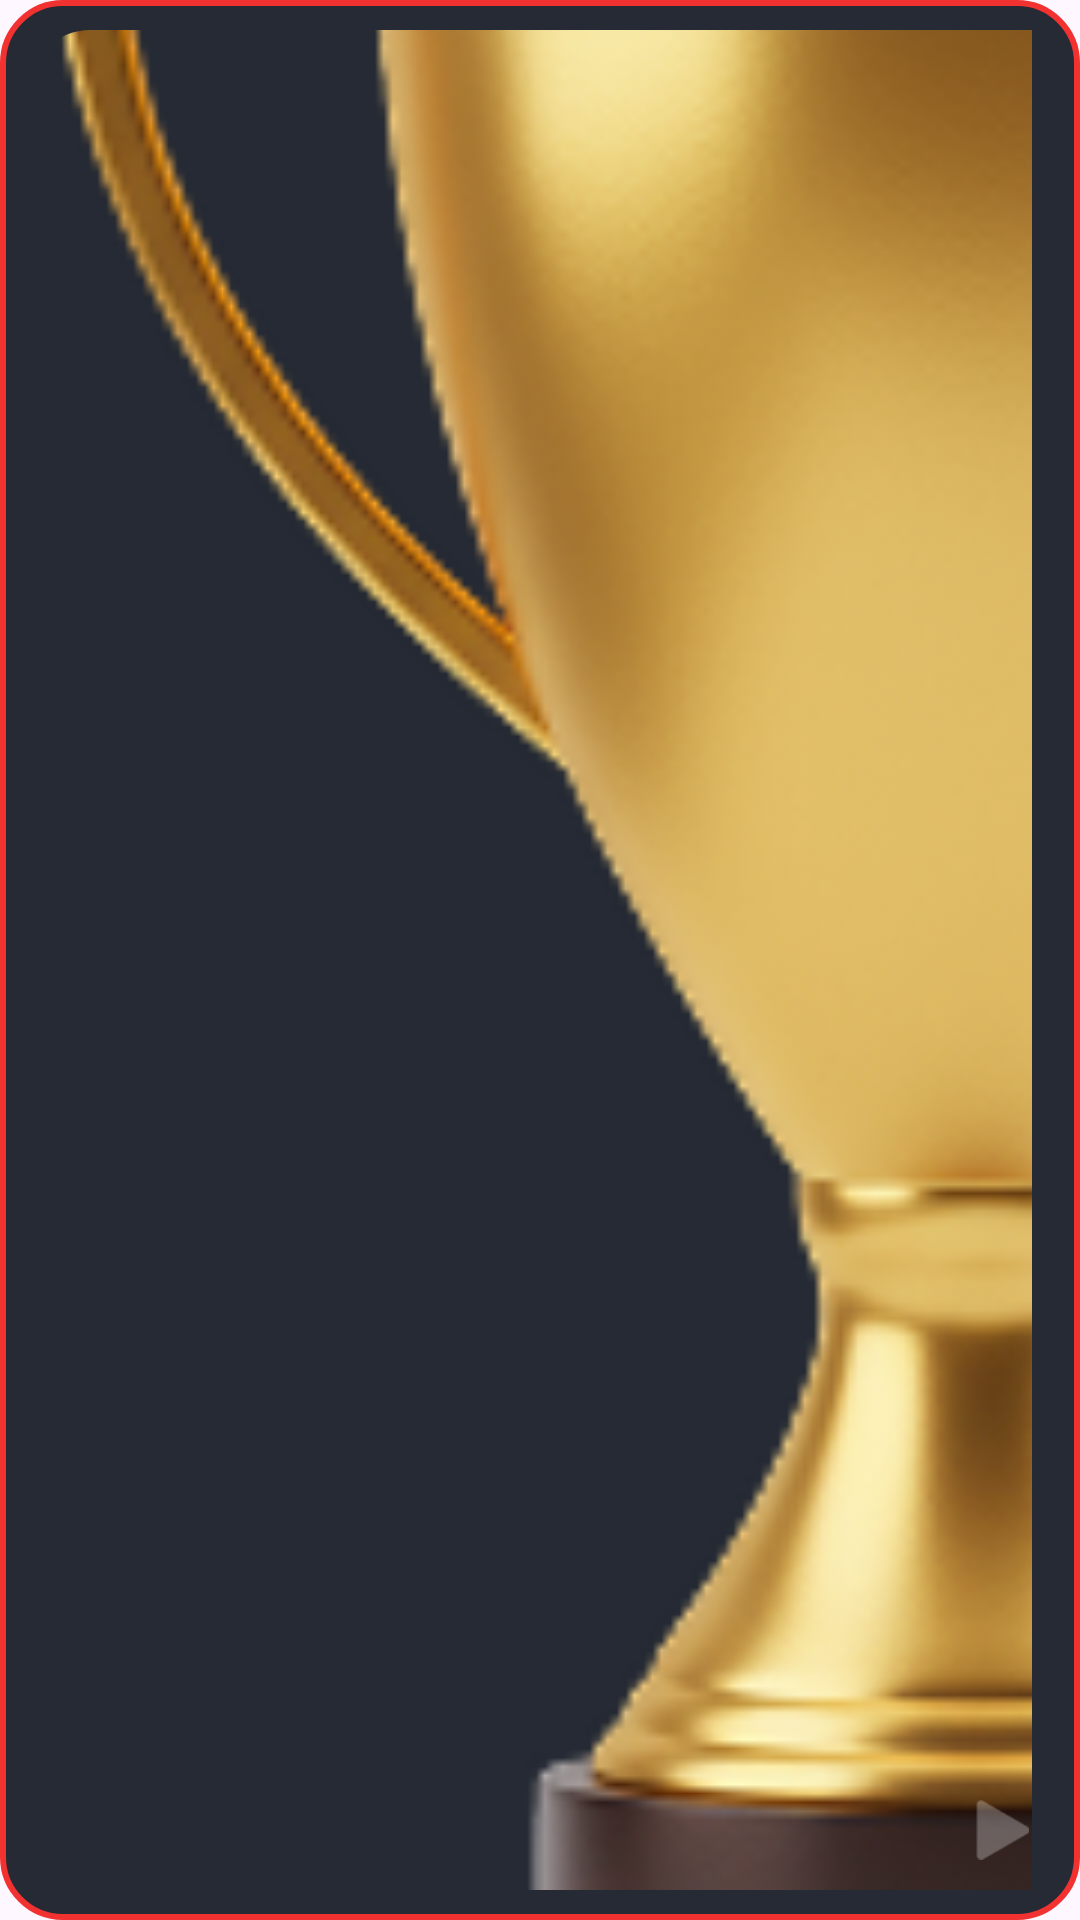

Screen size 1080*1920. Icon name, then its center in pixels as (x=x, y=y):
play: (x=1002, y=1830)
